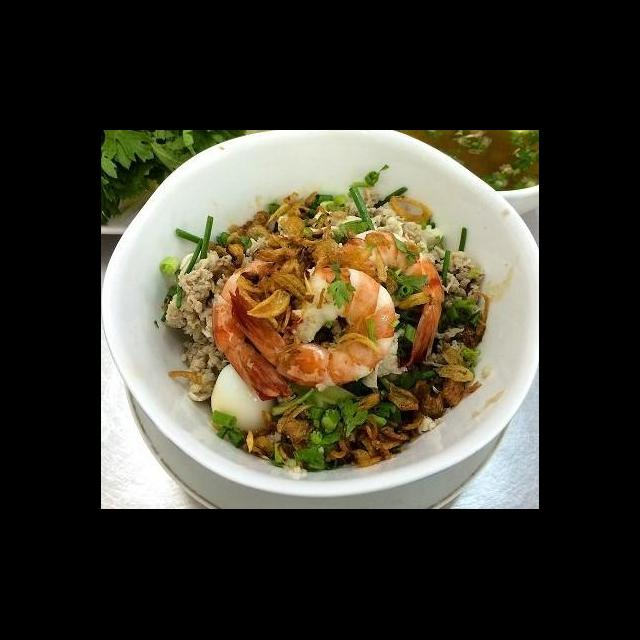thit bam: (320, 182, 491, 308), (156, 243, 247, 408)
tom: (228, 262, 402, 392), (307, 222, 450, 374), (206, 248, 328, 406)
trung: (204, 358, 280, 442)
